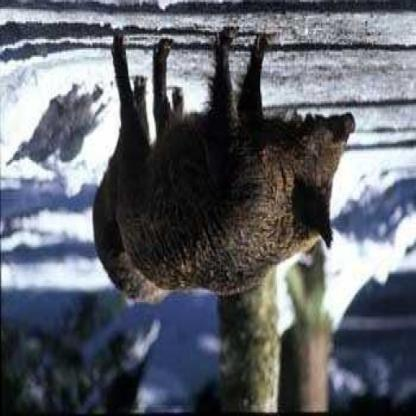boar: (82, 42, 358, 325)
